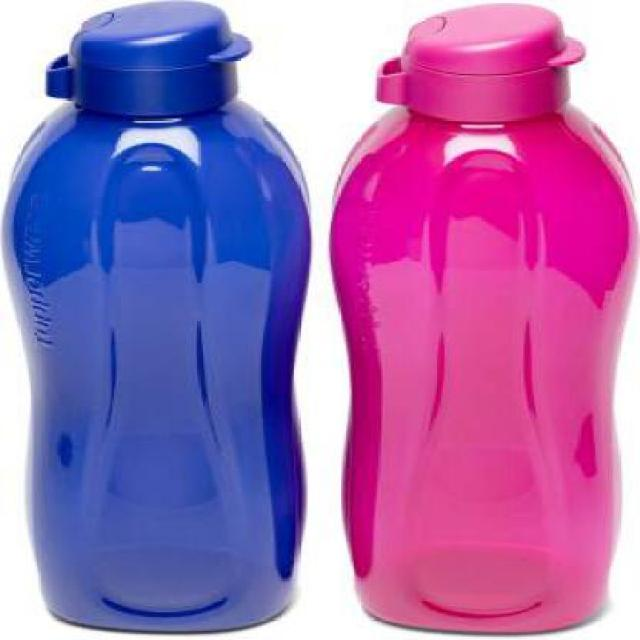Drinking: (17, 1, 309, 628), (328, 3, 622, 623)
